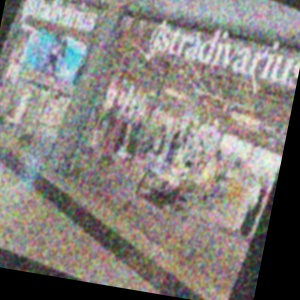stradivarius: (158, 0, 300, 69), (93, 0, 115, 29)
